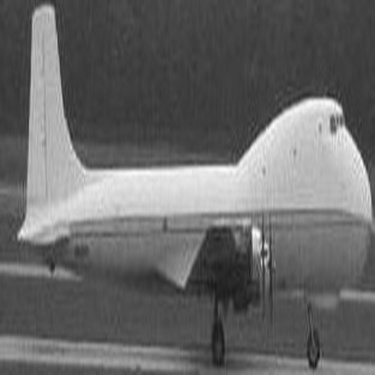airplane: (7, 8, 369, 371)
